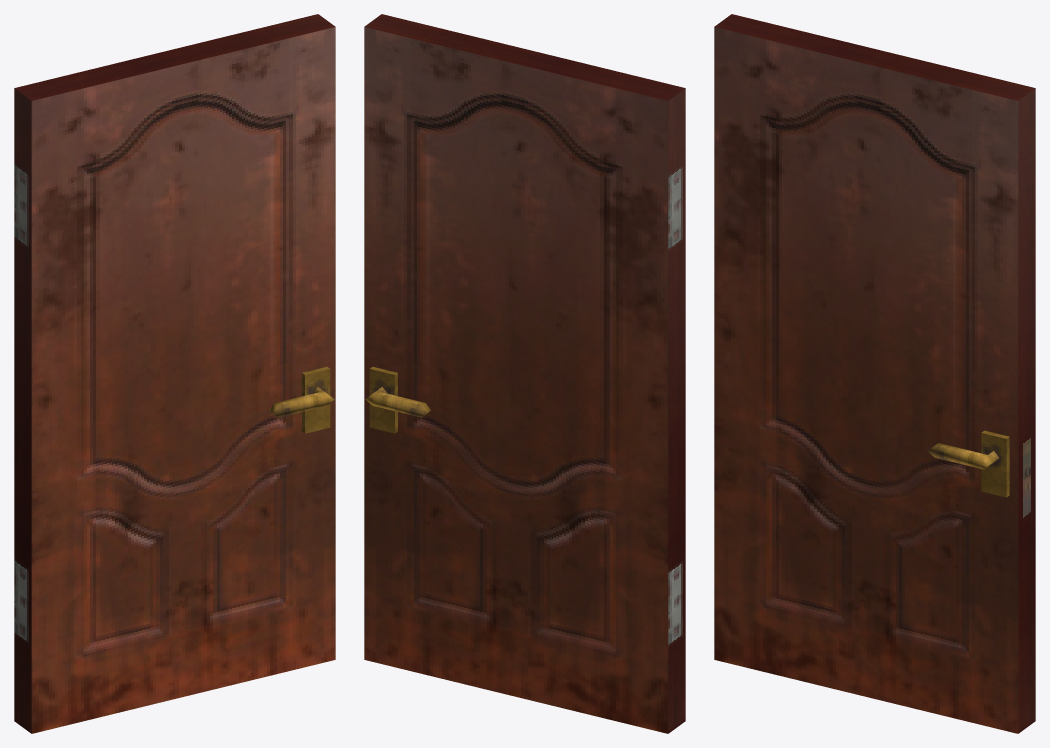
Rendered from door_002.glb.
The picture shows the model from 3 angles, left to right: view 1: azimuth 30°, elevation 25°; view 2: azimuth 150°, elevation 25°; view 3: azimuth 330°, elevation 25°; orthographic projection.
Parts seen in each view (by area): view 1: Door06; view 2: Door06; view 3: Door06.
Boxes of the visible parts, <box> form: Door06: <box>14,14,335,733</box>; Door06: <box>364,14,685,733</box>; Door06: <box>714,14,1035,733</box>.
Size of the model in its own units: 1 by 1.99 by 0.2643.
Materials: 2 (2 with a texture image).
